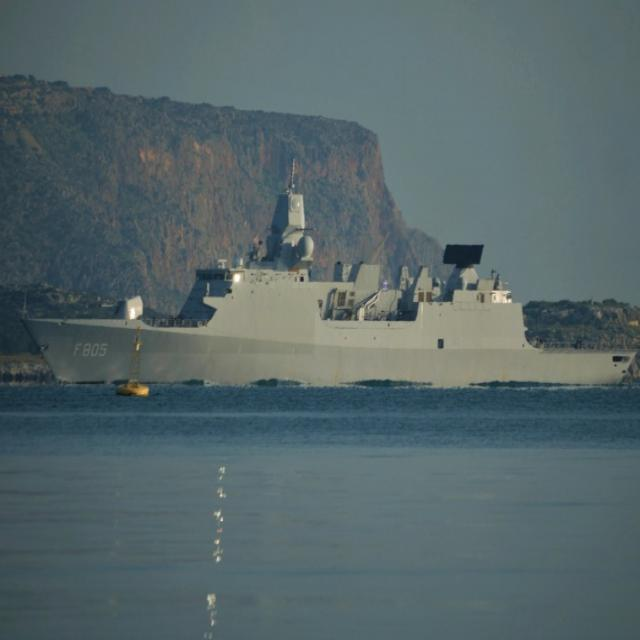Fragata: (13, 170, 640, 391)
